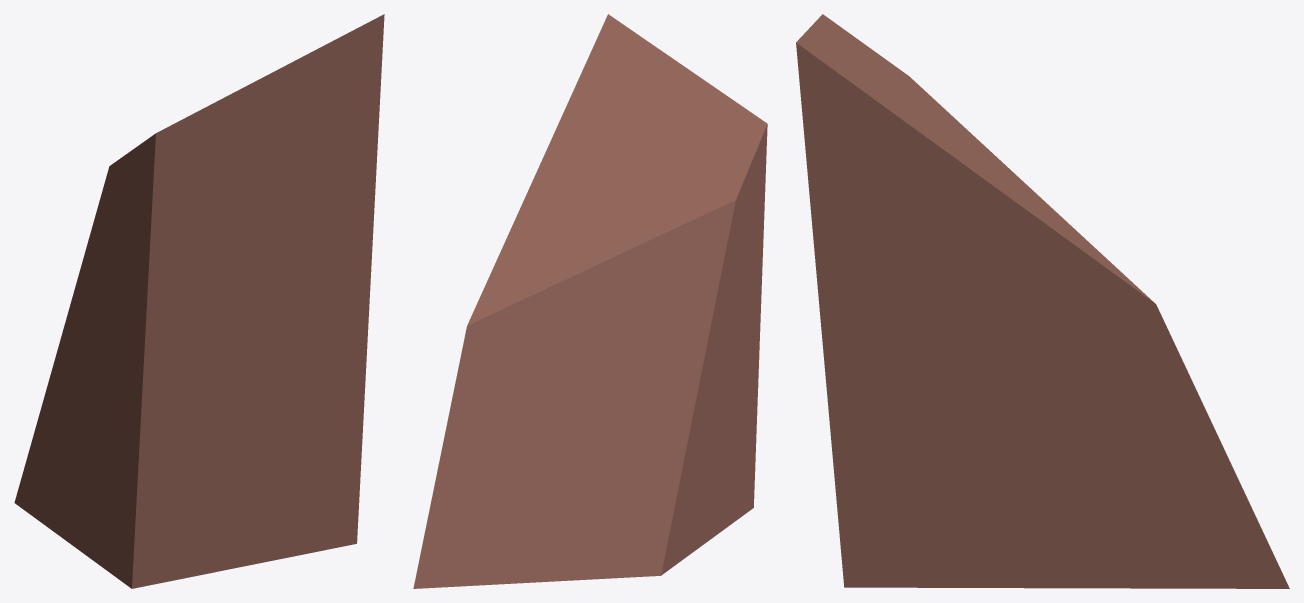
File: T_MurDetruit_7.9.fbx
3 views of the same model, side by side, from view 1: azimuth 30°, elevation 25°; view 2: azimuth 150°, elevation 25°; view 3: azimuth 270°, elevation 25° (orthographic). The views are drawn at different scales.
Parts seen in each view (by area): view 1: T_MurDetruit_7.9; view 2: T_MurDetruit_7.9; view 3: T_MurDetruit_7.9.
Part boxes in pixels (x1,y1,x2,y2): T_MurDetruit_7.9: (14, 14, 384, 588); T_MurDetruit_7.9: (413, 14, 767, 588); T_MurDetruit_7.9: (796, 14, 1289, 588).
Size of the model in its own units: 13.46 by 32.18 by 26.35.
